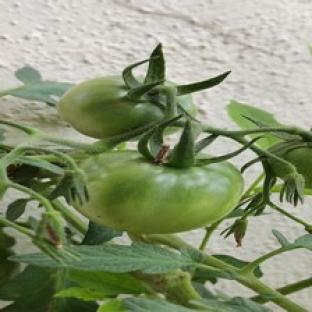Tomato: (73, 151, 243, 233), (58, 76, 164, 139), (269, 141, 311, 188)
